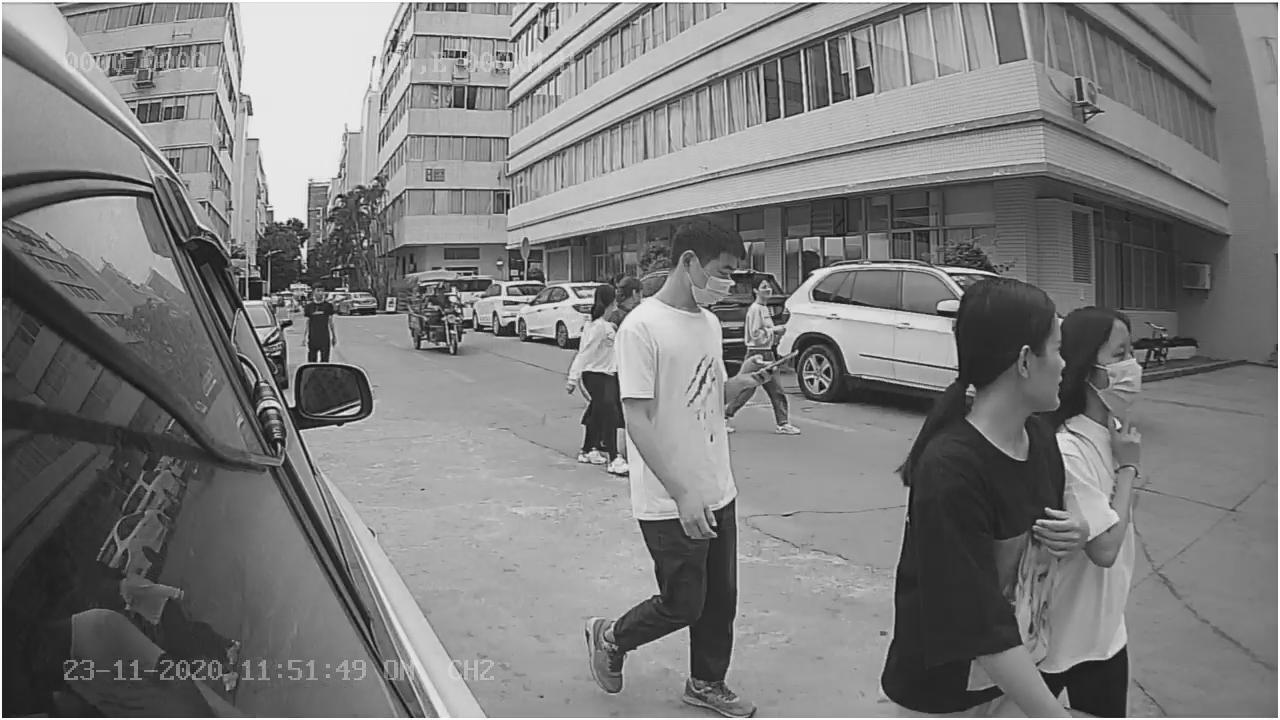person: (584, 206, 770, 720)
